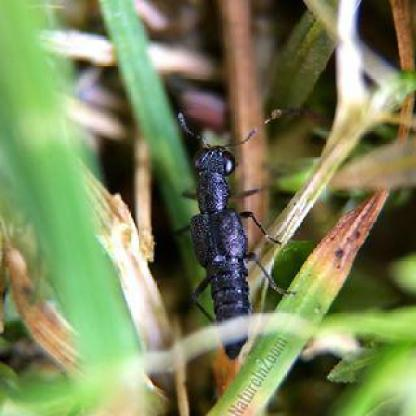beetle: (173, 112, 280, 336)
